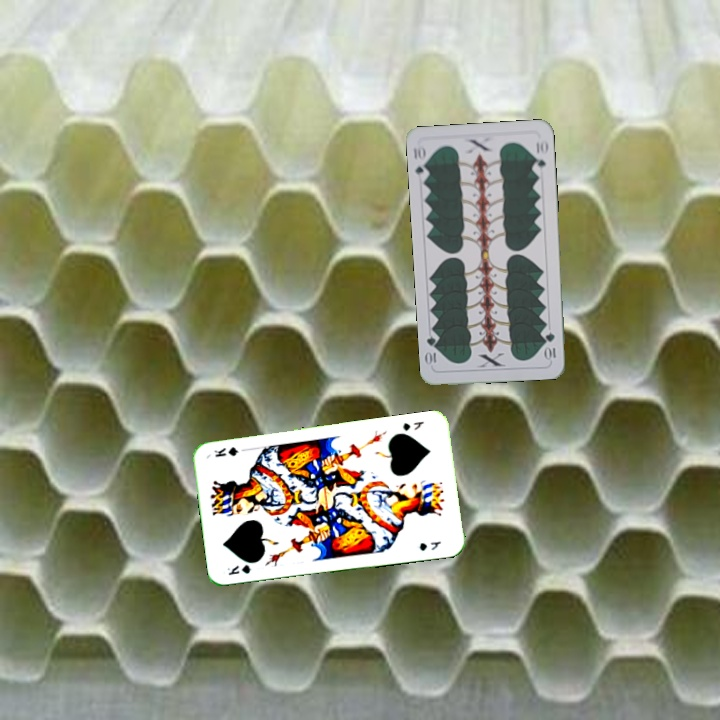G10: (409, 141, 431, 182), (542, 329, 558, 363)
GK: (223, 561, 253, 578), (399, 417, 426, 433)
